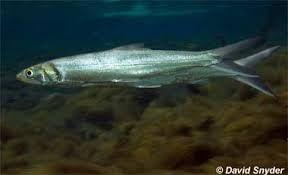Tenpounder: (15, 37, 265, 87)
